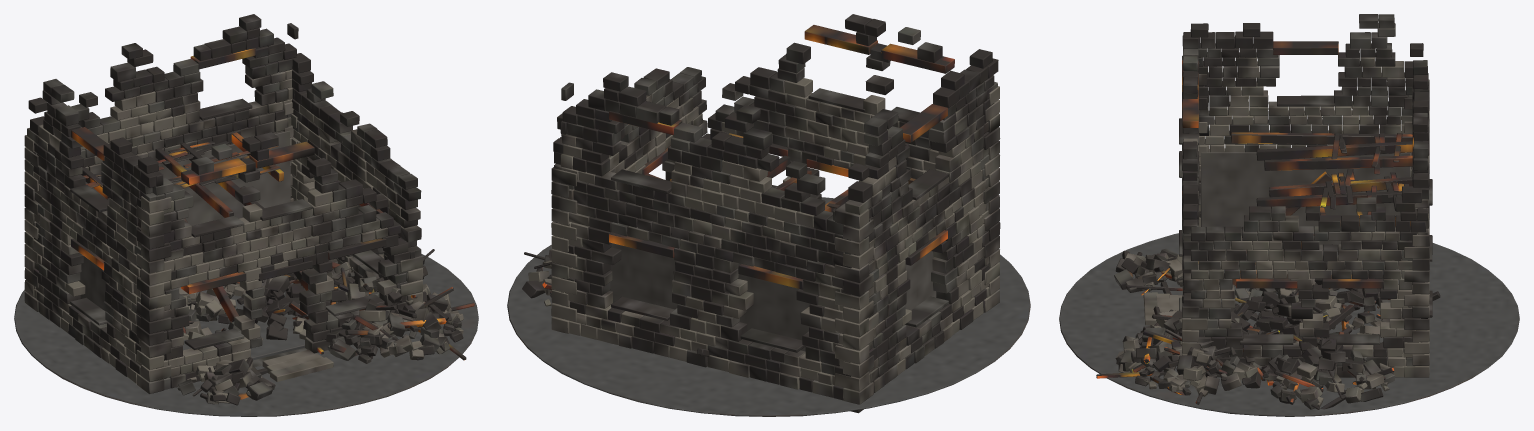
File: ruin.glb
3 renders of one model, left to right at view 1: azimuth 30°, elevation 25°; view 2: azimuth 150°, elevation 25°; view 3: azimuth 270°, elevation 25°, orthographic. The views are drawn at different scales.
Parts seen in each view (by area): view 1: AR_ruin; view 2: AR_ruin; view 3: AR_ruin.
Boxes of the visible parts, x1,y1,x2,y2 form: AR_ruin: (14, 14, 478, 416); AR_ruin: (507, 14, 1030, 416); AR_ruin: (1059, 14, 1519, 416).
Size of the model in its own units: 11.24 by 6.59 by 11.2.
Materials: 1 (1 with a texture image).
